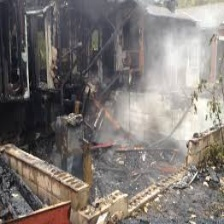smoke: (118, 67, 186, 143)
